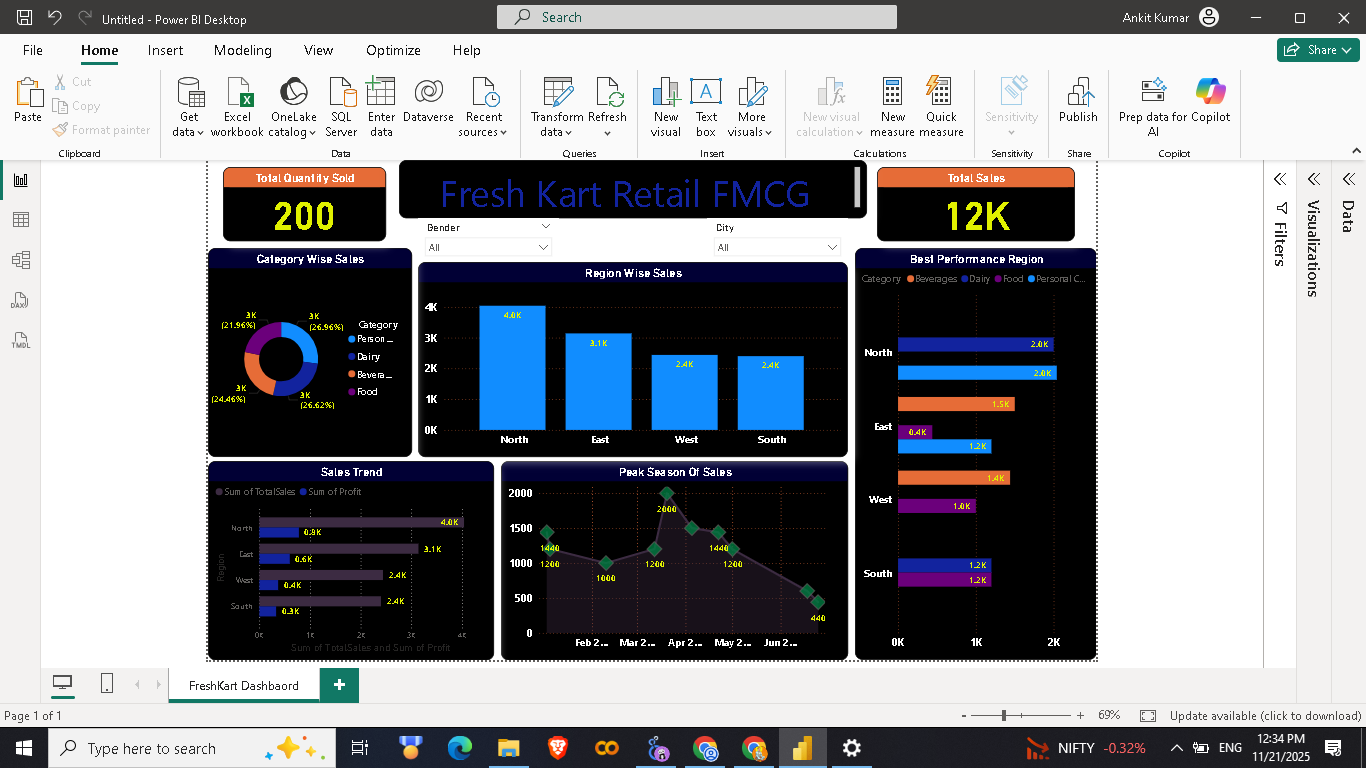

The page's visual inventory and layout, read from the dashboard file:
{"tool":"powerbi","page":{"name":"FreshKart Dashbaord","canvas":[1280,720],"ordinal":0},"visuals":[{"type":"lineChart","title":"Peak Season Of Sales","fields":{"Y":["Sum(Sales.TotalSales)"],"Category":["Sales.OrderDate.Variation.Date Hierarchy.Year","Sales.OrderDate.Variation.Date Hierarchy.Quarter","Sales.OrderDate.Variation.Date Hierarchy.Month","Sales.OrderDate.Variation.Date Hierarchy.Day"]},"box":[421.9,433.4,499.7,286.6],"z":0},{"type":"clusteredBarChart","title":"Best Performance Region","fields":{"Category":["Sales.Region"],"Y":["Sum(Sales.TotalSales)"],"Series":["Sales.Category"]},"box":[931.7,126.7,348.5,593.3],"z":1000},{"type":"clusteredColumnChart","title":"Region Wise Sales","fields":{"Category":["Sales.Region"],"Y":["Sum(Sales.TotalSales)"]},"box":[302.4,146.9,619.2,280.8],"z":2000},{"type":"donutChart","title":"Category Wise Sales ","fields":{"Y":["Sum(Sales.TotalSales)"],"Category":["Sales.Category"]},"box":[0,126.7,293.8,301],"z":3000},{"type":"clusteredBarChart","title":"Sales Trend","fields":{"Category":["Sales.Region"],"Y":["Sum(Sales.TotalSales)","Sum(Sales.Profit)"]},"box":[0,433.4,411.8,286.6],"z":4000},{"type":"card","title":"Total Sales","fields":{"Values":["Customer.Total sales"]},"box":[963.4,10.1,285.1,106.6],"z":5000},{"type":"card","title":"Total Quantity Sold","fields":{"Values":["Sum(Sales.UnitsSold)"]},"box":[21.6,10.1,234.7,106.6],"z":6000},{"type":"textbox","box":[275,0,673.9,83.5],"z":7000},{"type":"slicer","fields":{"Values":["Sales.City"]},"box":[718.6,83.5,203,63.4],"z":8000},{"type":"slicer","fields":{"Values":["Customer.Gender"]},"box":[302.4,83.5,203,63.4],"z":8001}]}

Visuals, with their boxes on the page's 1280x720 design canvas (x1, y1, x2, y2). These are canvas units, not pixel positions in the 1366x768 screenshot, which may show the page scaled, cropped or inside an application window:
"Peak Season Of Sales" lineChart: pyautogui.locateOnScreen(422, 433, 922, 720)
"Best Performance Region" clusteredBarChart: pyautogui.locateOnScreen(932, 127, 1280, 720)
"Region Wise Sales" clusteredColumnChart: pyautogui.locateOnScreen(302, 147, 922, 428)
"Category Wise Sales " donutChart: pyautogui.locateOnScreen(0, 127, 294, 428)
"Sales Trend" clusteredBarChart: pyautogui.locateOnScreen(0, 433, 412, 720)
"Total Sales" card: pyautogui.locateOnScreen(963, 10, 1248, 117)
"Total Quantity Sold" card: pyautogui.locateOnScreen(22, 10, 256, 117)
textbox: pyautogui.locateOnScreen(275, 0, 949, 84)
slicer - Sales.City: pyautogui.locateOnScreen(719, 84, 922, 147)
slicer - Customer.Gender: pyautogui.locateOnScreen(302, 84, 505, 147)
